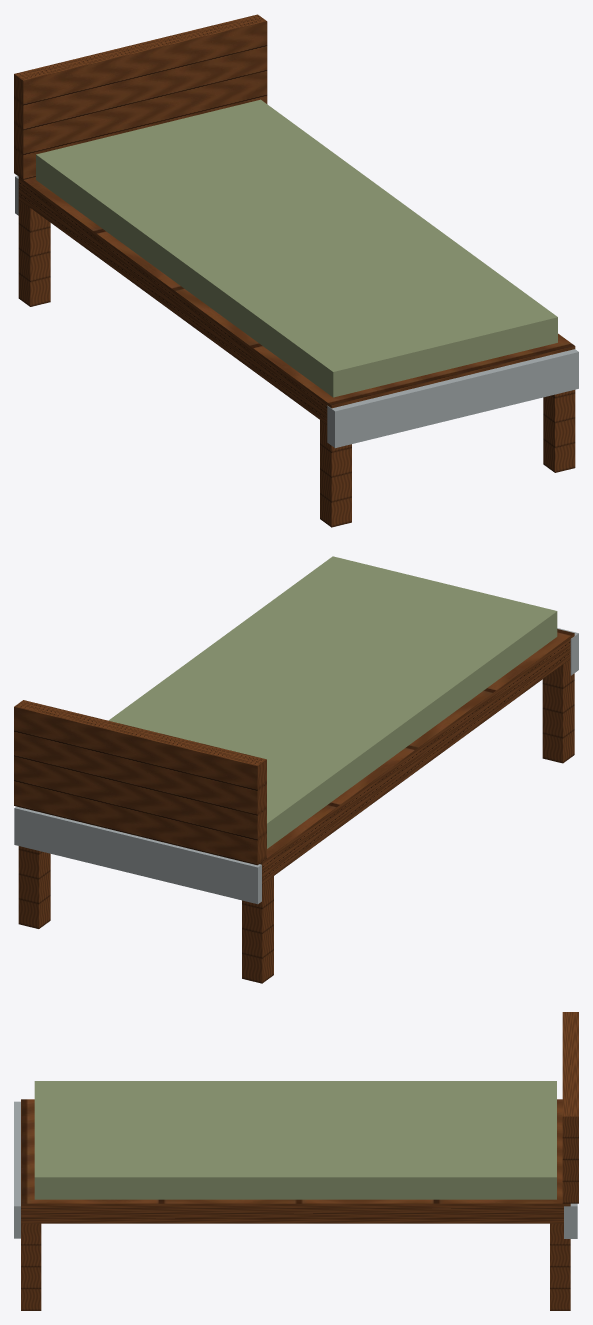
Rendered from prehistoric-survivor-settlement-sleeping-hide-cot-2925bc5d__23210.glb.
3 views of the same model, one above another, from view 1: azimuth 30°, elevation 25°; view 2: azimuth 150°, elevation 25°; view 3: azimuth 270°, elevation 25° (orthographic). The views are drawn at different scales.
Visible parts, largest first — view 1: sleeping-hide-cot; view 2: sleeping-hide-cot; view 3: sleeping-hide-cot.
Part boxes in pixels (bbox=[...]): sleeping-hide-cot: bbox=[14, 14, 578, 527]; sleeping-hide-cot: bbox=[14, 556, 578, 983]; sleeping-hide-cot: bbox=[14, 1012, 578, 1310].
Size of the model in its own units: 0.9025 by 0.7799 by 2.06.
Materials: 3 (1 with a texture image).
